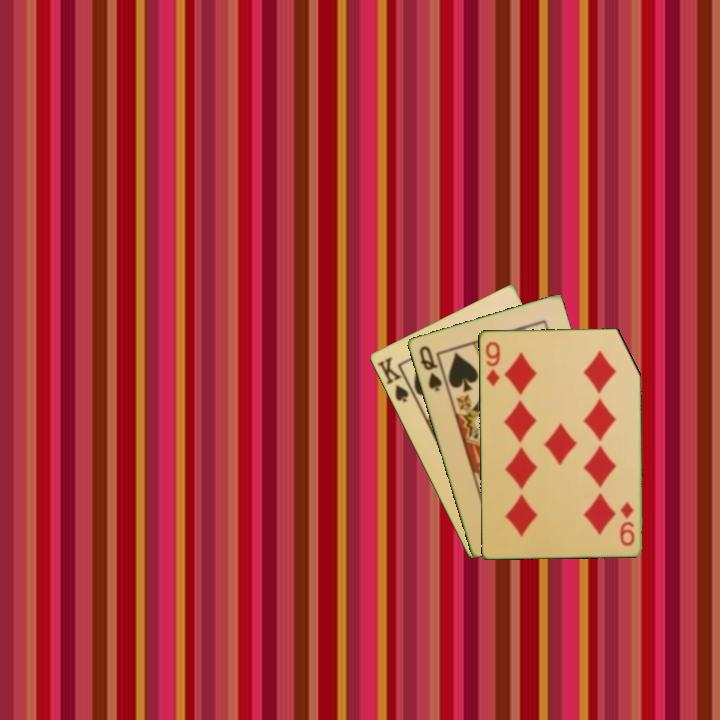9d: (482, 338, 503, 388), (616, 498, 637, 548)
Ks: (374, 353, 411, 405)
Qs: (415, 342, 444, 394)
